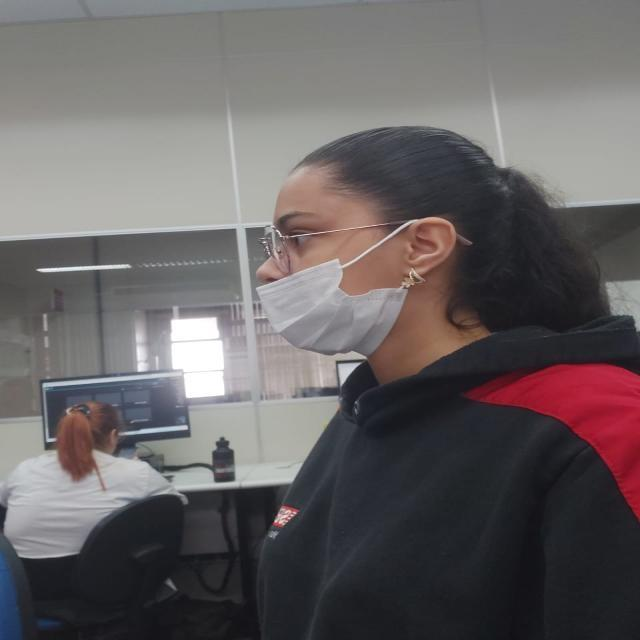hairnet: (248, 177, 423, 350)
